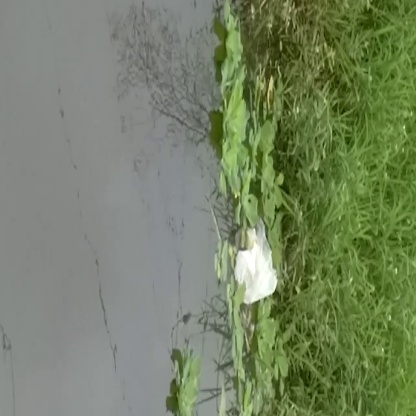plastic-bag: (222, 218, 283, 308)
